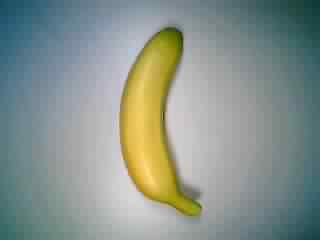banana: (112, 25, 223, 221)
